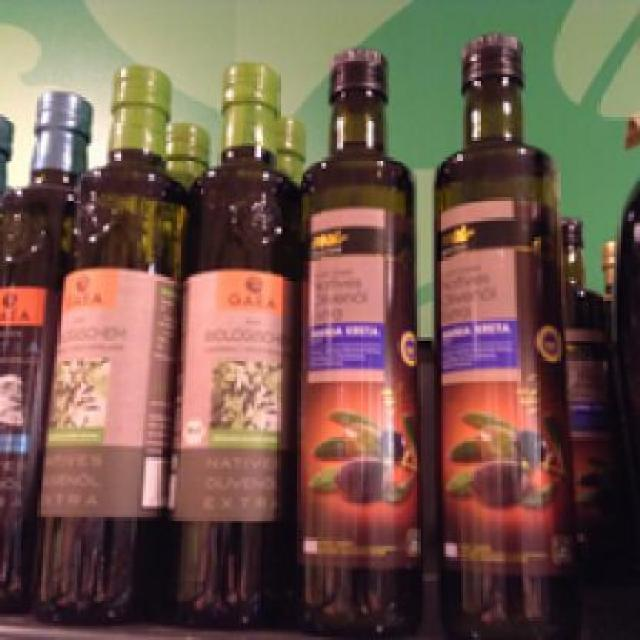Oil: (422, 31, 575, 632), (28, 63, 184, 623), (160, 60, 300, 623), (294, 46, 426, 632)
